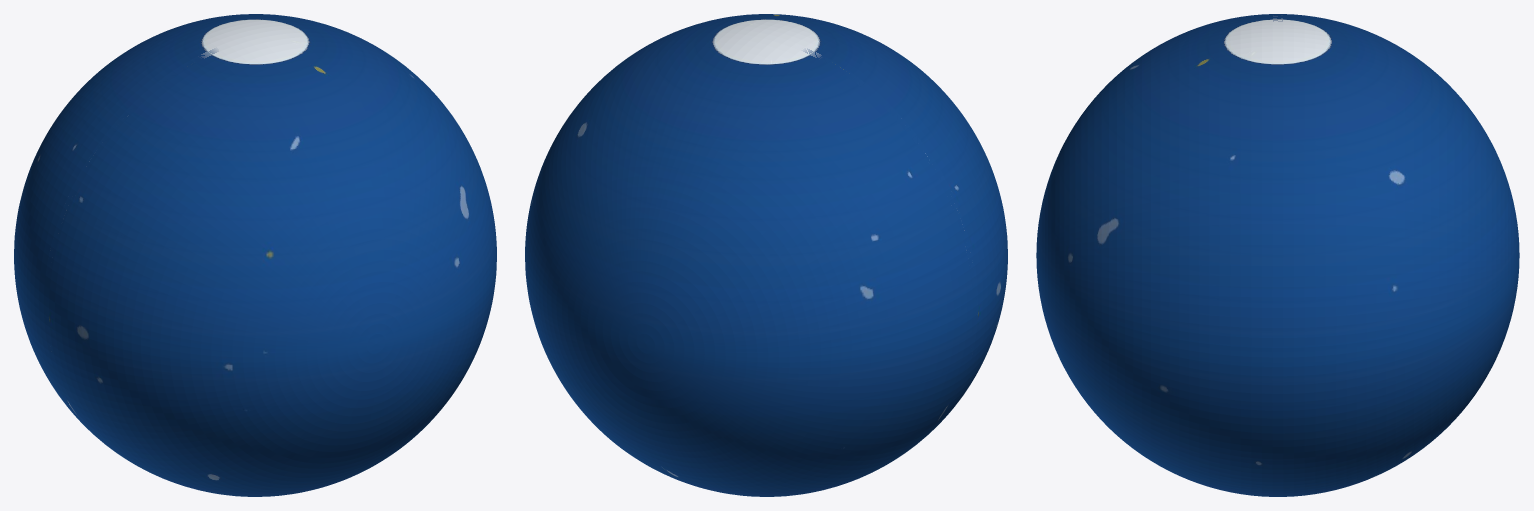
Rendered from earth.glb.
The picture shows the model from 3 angles, left to right: view 1: azimuth 30°, elevation 25°; view 2: azimuth 150°, elevation 25°; view 3: azimuth 270°, elevation 25°; orthographic projection.
Parts seen in each view (by area): view 1: world; view 2: world; view 3: world.
Boxes of the visible parts, x1,y1,x2,y2 form: world: (14,14,496,496); world: (525,14,1007,496); world: (1036,14,1519,496).
Bounding box in the file's own units: 2 × 2 × 2.
Materials: 1 (1 with a texture image).
